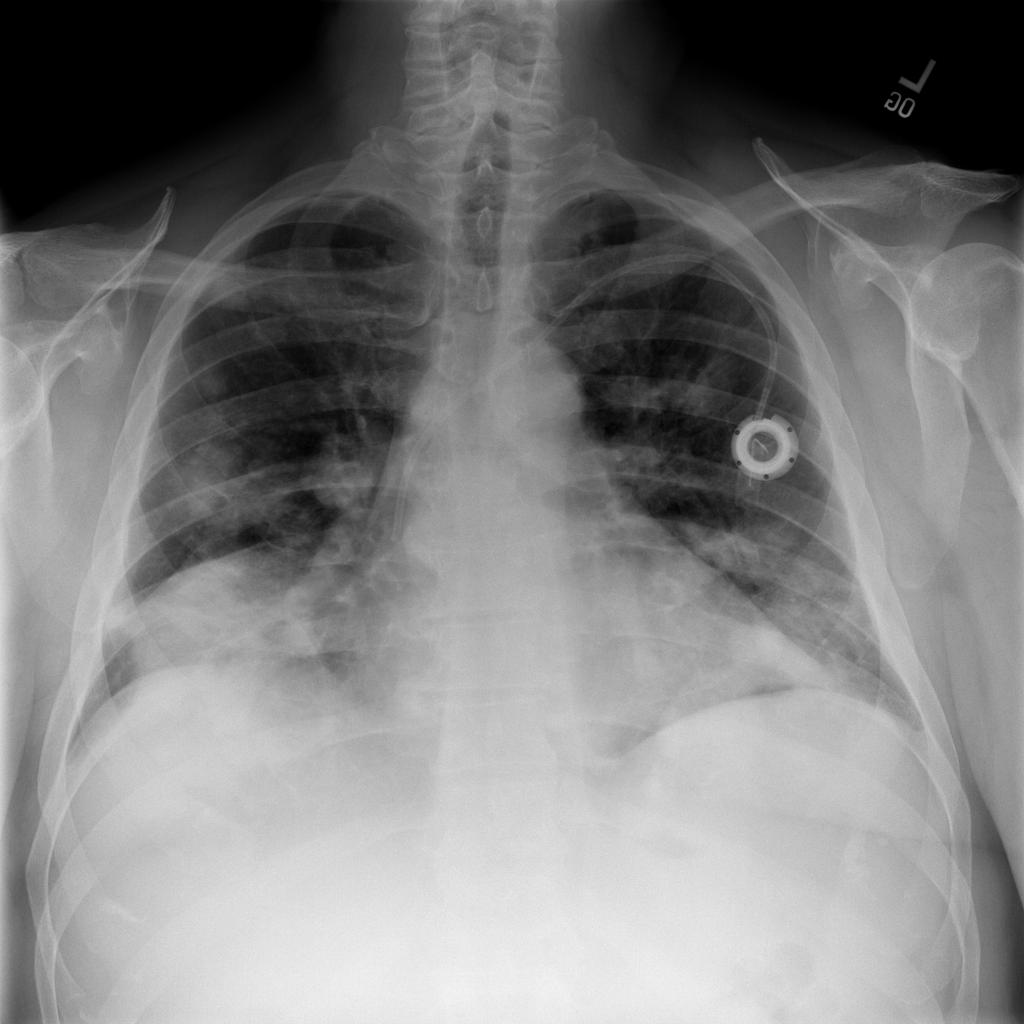nodule: (117, 555, 326, 721), (151, 417, 295, 543), (709, 586, 875, 693), (293, 420, 398, 520), (178, 351, 251, 414)
